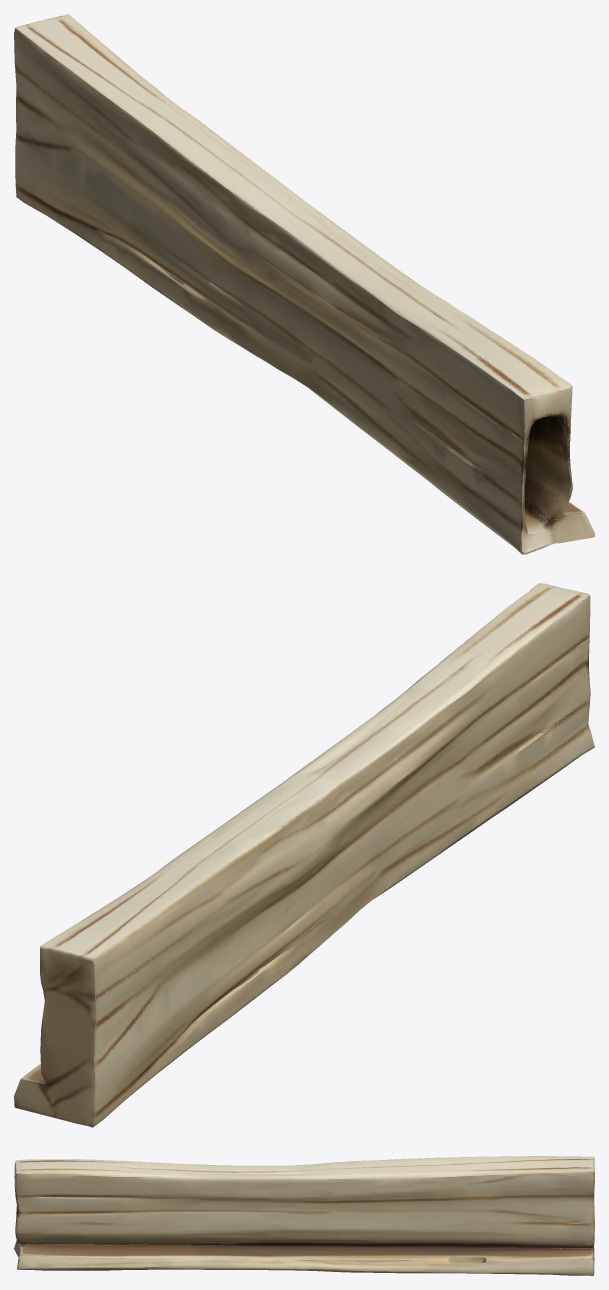
File: woodplankjanky.glb
3 views of the same model, one above another, from view 1: azimuth 30°, elevation 25°; view 2: azimuth 150°, elevation 25°; view 3: azimuth 270°, elevation 25° (orthographic). The views are drawn at different scales.
Parts seen in each view (by area): view 1: mesh; view 2: mesh; view 3: mesh.
Boxes of the visible parts, x1,y1,x2,y2 form: mesh: (14,14,594,554); mesh: (14,583,594,1127); mesh: (14,1156,594,1275).
Size of the model in its own units: 0.1062 by 0.1853 by 1.
Materials: 1 (1 with a texture image).
